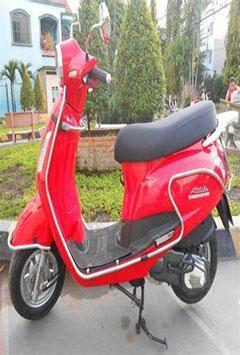motorcycle: (0, 26, 240, 348)
